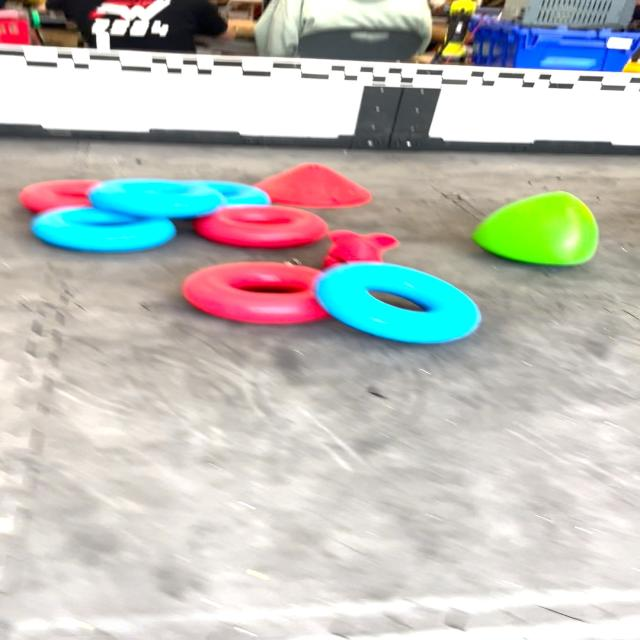Blue-Ring: (316, 262, 480, 342), (31, 208, 176, 252), (89, 179, 224, 218), (193, 180, 271, 205)
Red-Ring: (182, 262, 329, 324), (193, 205, 329, 248), (20, 180, 100, 212)
